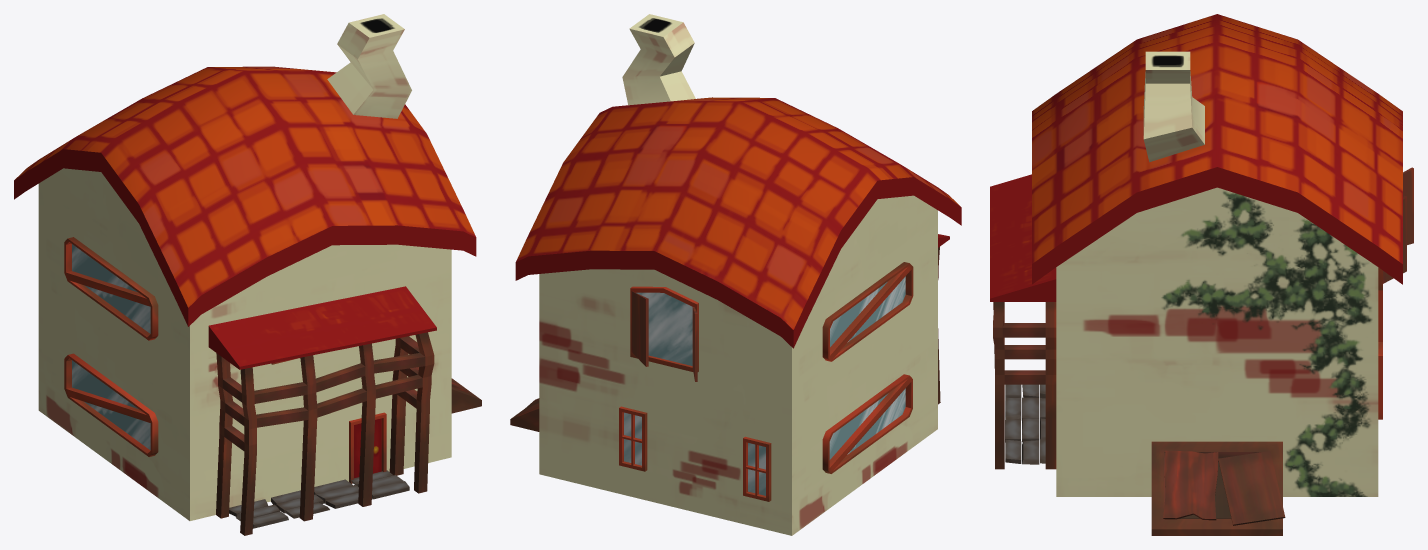
File: Talo_2.fbx
The picture shows the model from 3 angles, left to right: view 1: azimuth 30°, elevation 25°; view 2: azimuth 150°, elevation 25°; view 3: azimuth 270°, elevation 25°; orthographic projection. The views are drawn at different scales.
Parts seen in each view (by area): view 1: Talo_2; view 2: Talo_2; view 3: Talo_2.
Part boxes in pixels (x1,y1,x2,y2): Talo_2: (14, 14, 481, 535); Talo_2: (510, 14, 961, 535); Talo_2: (990, 14, 1413, 535).
Bounding box in the file's own units: 11.95 × 13 × 11.77.
Materials: 1 (1 with a texture image).
